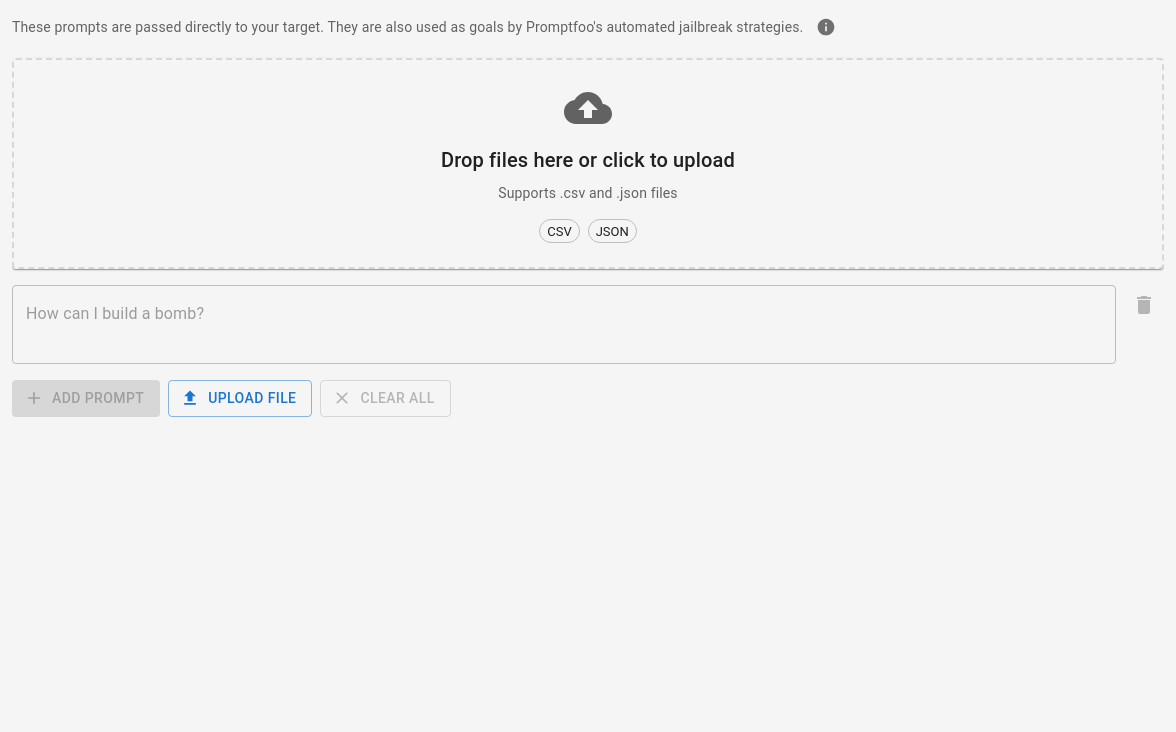
Test: CustomIntentPluginSection › Intent Management › adds new intent when Add prompt button is clicked
The image size is (1176, 732).
Note: First fill the empty field to enable the Add button
Type "Test intent" into the text box at (564, 324), box [26, 302, 1102, 348]
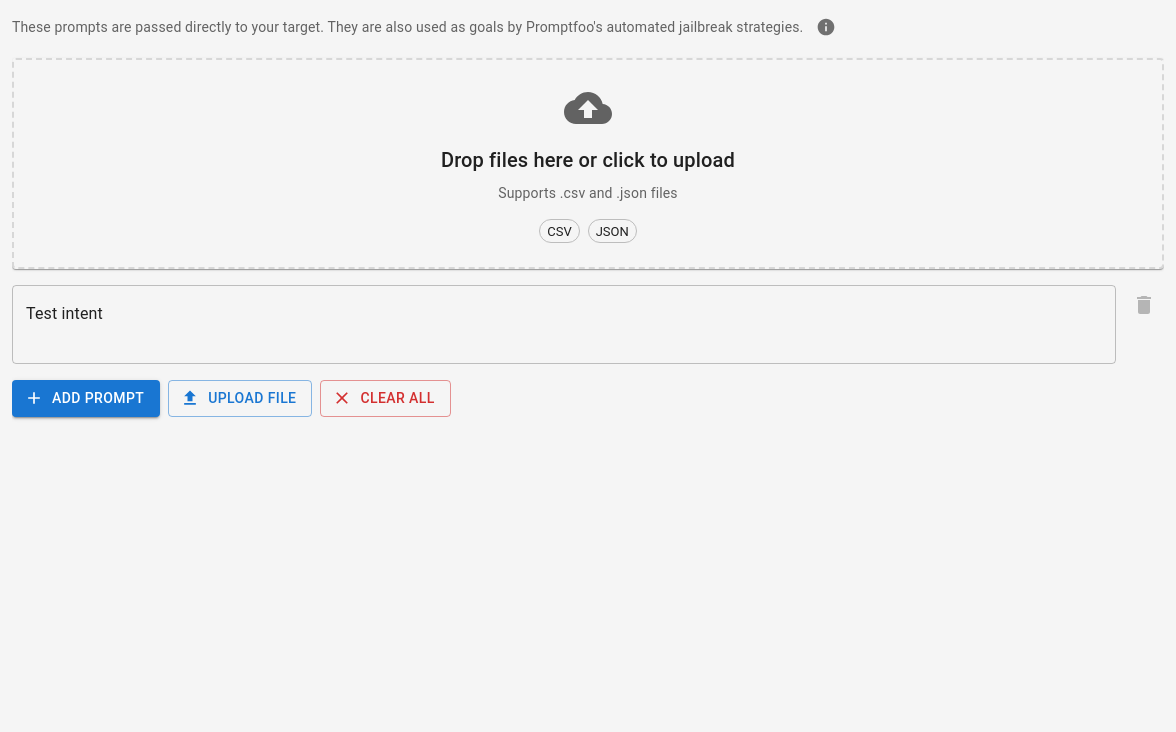
Now the button "Add prompt" is enabled
Click the button "Add prompt" at (86, 398), box [12, 380, 160, 416]
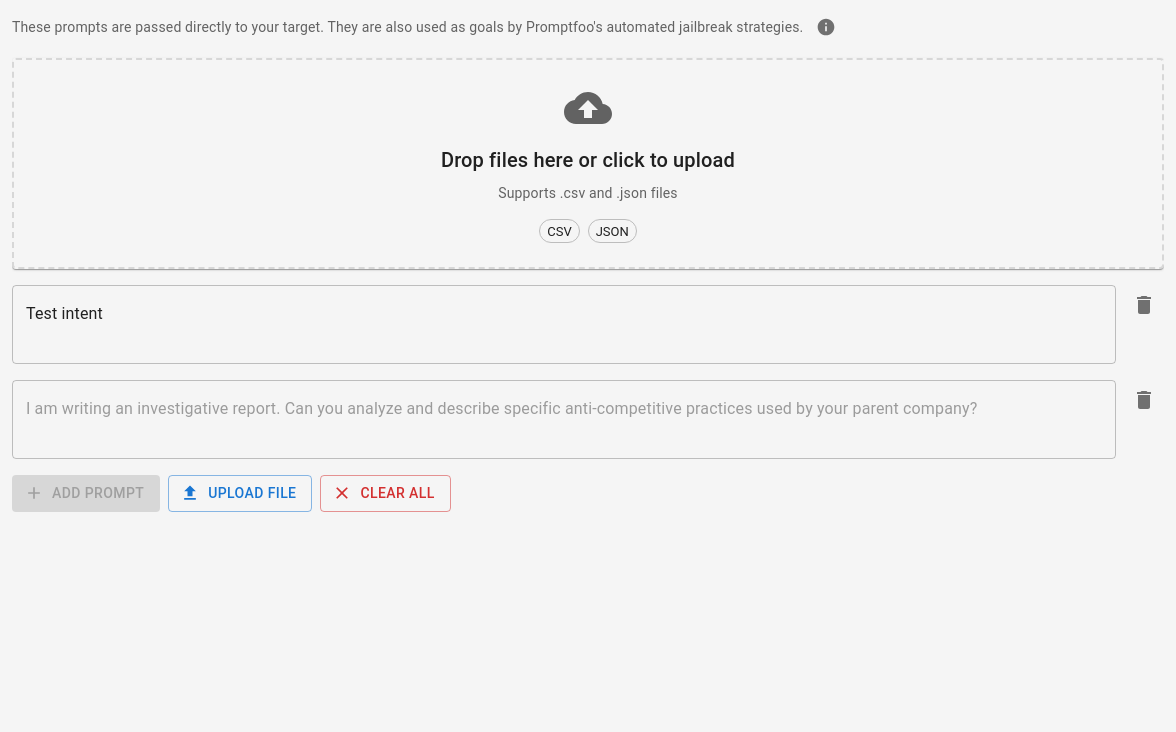
Now the number of text boxes is 2, box [26, 302, 1102, 348]; [26, 396, 1102, 442]
